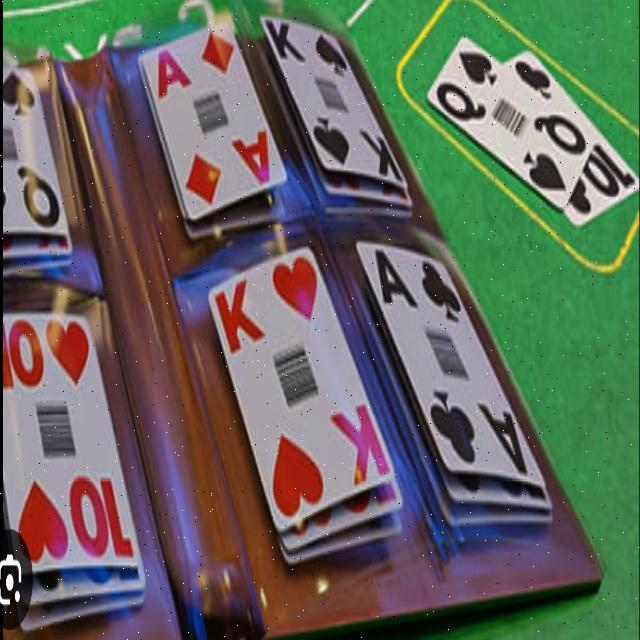Card-10: (3, 312, 138, 575), (503, 48, 640, 228)
Card-A: (355, 240, 545, 482), (142, 18, 287, 219)
Card-K: (209, 246, 394, 533), (261, 16, 407, 179)
Card-Q: (426, 35, 594, 209), (3, 65, 69, 234)
